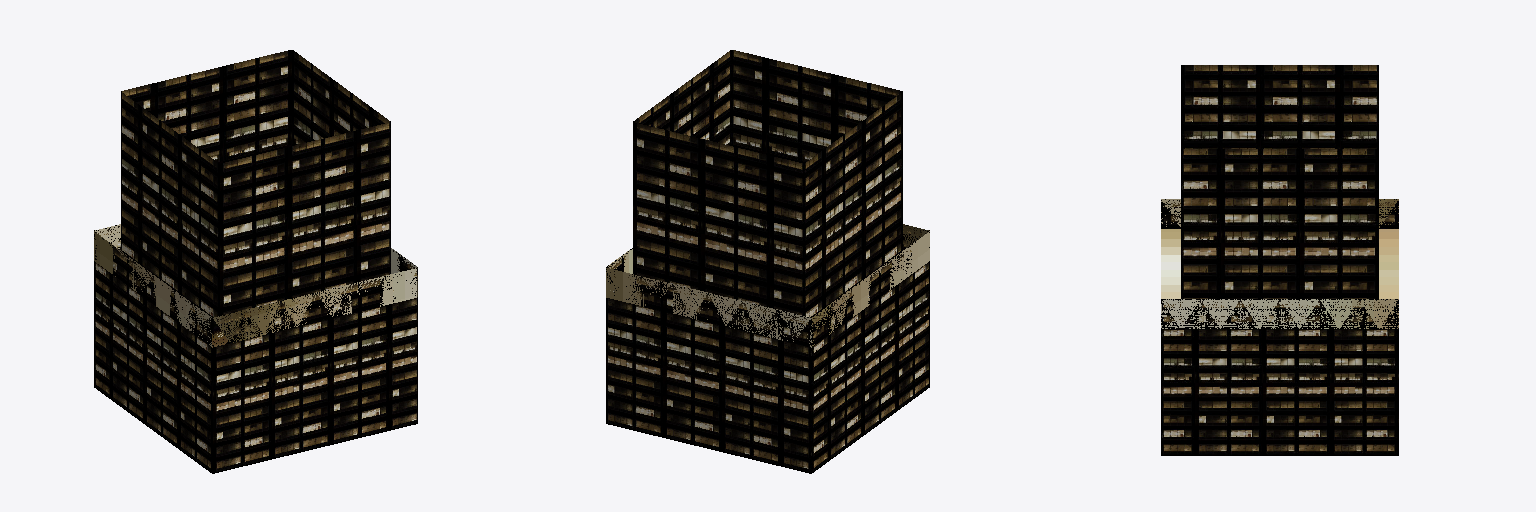
The picture shows the model from 3 angles: view 1: azimuth 30°, elevation 25°; view 2: azimuth 150°, elevation 25°; view 3: azimuth 270°, elevation 25°; orthographic projection.
Parts seen in each view (by area): view 1: GrandesEdificios_GrandesEdificios_Cube.005; view 2: GrandesEdificios_GrandesEdificios_Cube.005; view 3: GrandesEdificios_GrandesEdificios_Cube.005.
Part boxes in pixels (left/top/right/bottom): GrandesEdificios_GrandesEdificios_Cube.005: left=94, top=50, right=417, bottom=473; GrandesEdificios_GrandesEdificios_Cube.005: left=606, top=50, right=929, bottom=473; GrandesEdificios_GrandesEdificios_Cube.005: left=1161, top=65, right=1398, bottom=455.
Bounding box in the file's own units: 1.5 × 2.08 × 1.5.
Materials: 1 (1 with a texture image).